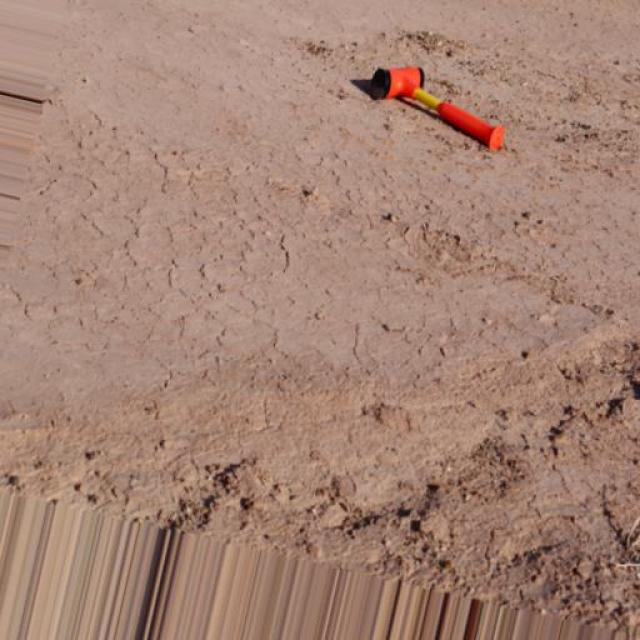mallet: (367, 64, 505, 151)
